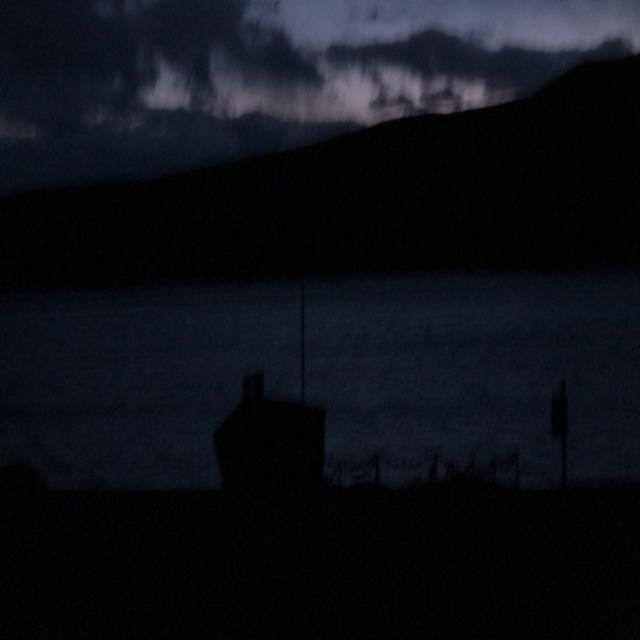Boat: (234, 319, 337, 504)
